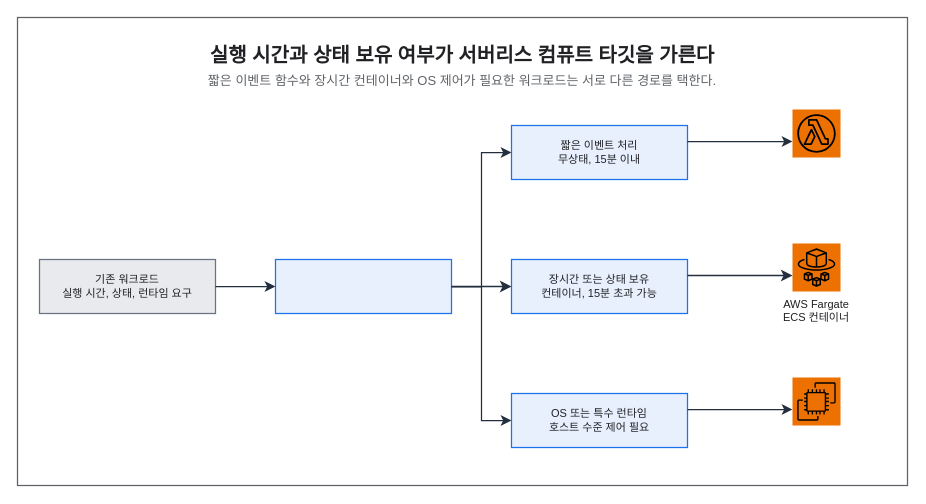
This 926x504 diagram has some shape labels left out. Here are the shapes that lost their labels. From the top down, the centre of each, then its label:
At point (816, 133): "AWS Lambda 이벤트 기반 함수".
At point (363, 286): "제약 판정 15분, 메모리, OS 접근, 상시 실행".
At point (816, 401): "Amazon EC2 직접 관리하는 컴퓨트".
